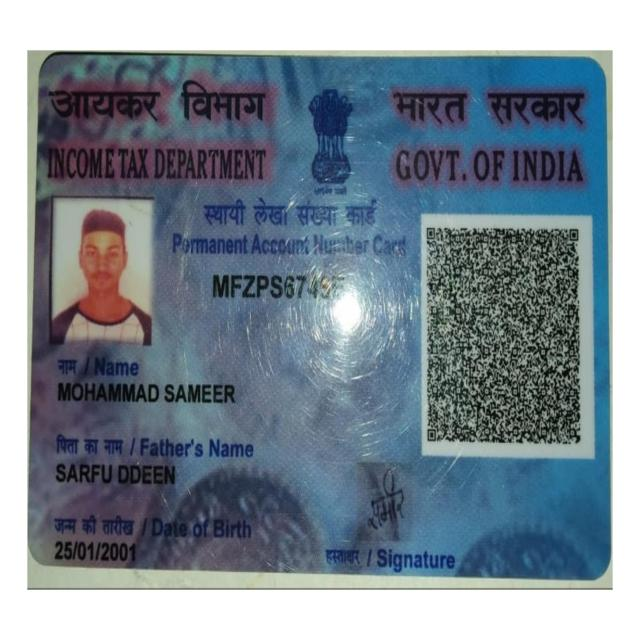pan_card: (29, 57, 608, 574)
